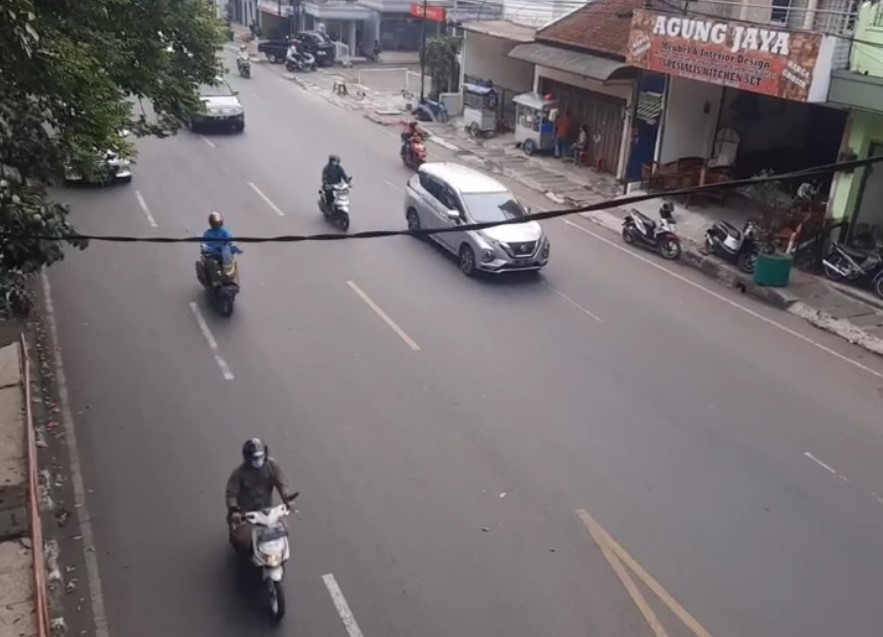mobil: (412, 166, 555, 286)
motor: (217, 435, 311, 612), (199, 205, 250, 334), (318, 156, 358, 239), (398, 116, 429, 168)
